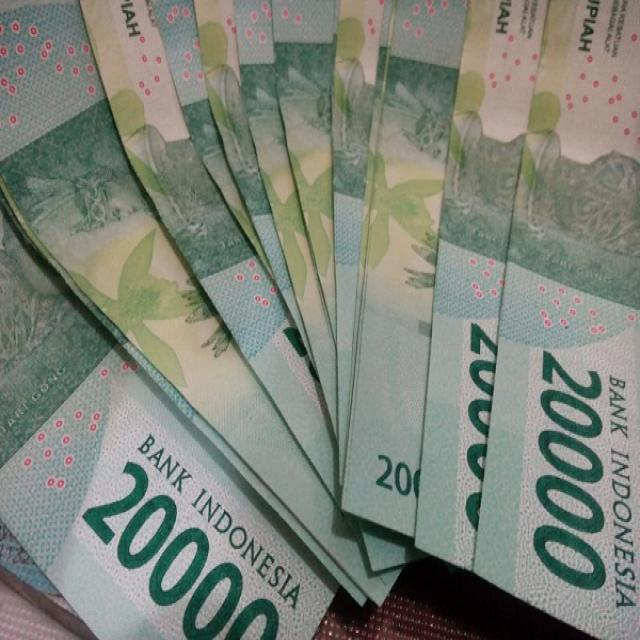dua puluh ribu rupiah: (0, 206, 337, 640), (469, 0, 640, 640), (414, 0, 555, 576)
